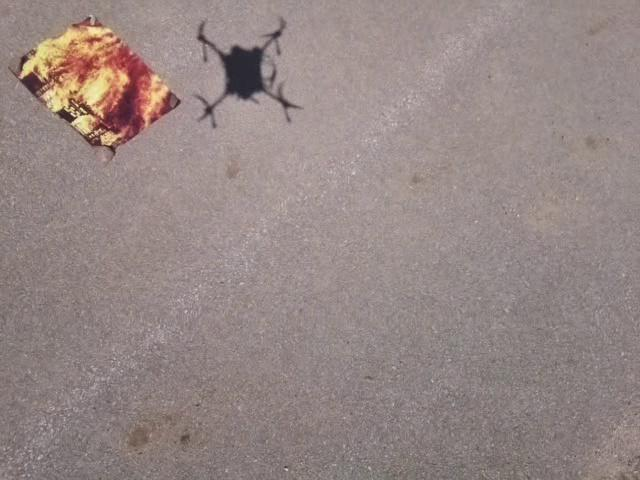fire-poster: (7, 13, 182, 163)
